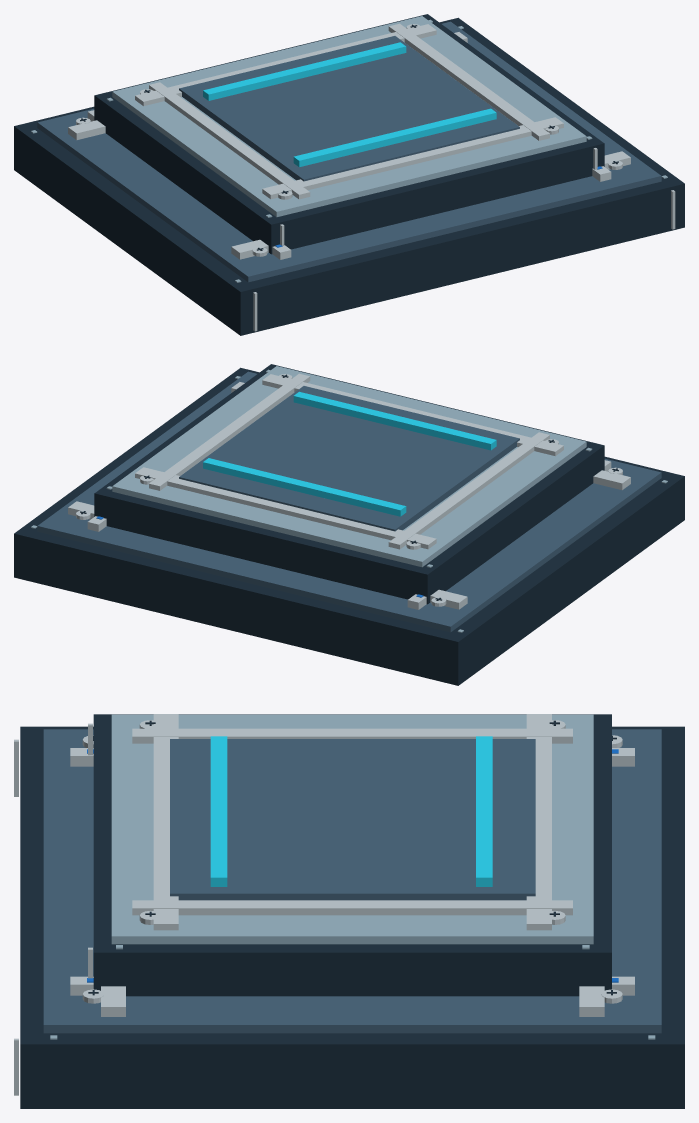
File: 25_L74_NanometreWaferXYStage.fbx
3 views of the same model, one above another, from view 1: azimuth 30°, elevation 25°; view 2: azimuth 150°, elevation 25°; view 3: azimuth 270°, elevation 25° (orthographic). The views are drawn at different scales.
Parts seen in each view (by area): view 1: NanometreWaferXYStage, NanometreWaferXYStage_Part_0056, NanometreWaferXYStage_Part_0028, NanometreWaferXYStage_Part_0035, NanometreWaferXYStage_Part_0038, NanometreWaferXYStage_Part_0057, NanometreWaferXYStage_Part_0058, NanometreWaferXYStage_Part_0042, NanometreWaferXYStage_Part_0040, NanometreWaferXYStage_Part_0036; view 2: NanometreWaferXYStage, NanometreWaferXYStage_Part_0056, NanometreWaferXYStage_Part_0028, NanometreWaferXYStage_Part_0035, NanometreWaferXYStage_Part_0036, NanometreWaferXYStage_Part_0058, NanometreWaferXYStage_Part_0057, NanometreWaferXYStage_Part_0042, NanometreWaferXYStage_Part_0040, NanometreWaferXYStage_Part_0038; view 3: NanometreWaferXYStage, NanometreWaferXYStage_Part_0056, NanometreWaferXYStage_Part_0028, NanometreWaferXYStage_Part_0035, NanometreWaferXYStage_Part_0042, NanometreWaferXYStage_Part_0040, NanometreWaferXYStage_Part_0036, NanometreWaferXYStage_Part_0038, NanometreWaferXYStage_Part_0058, NanometreWaferXYStage_Part_0057.
Part boxes in pixels (x1,y1,x2,y2): NanometreWaferXYStage: (14,17,684,335); NanometreWaferXYStage_Part_0056: (179,36,519,181); NanometreWaferXYStage_Part_0028: (94,14,604,254); NanometreWaferXYStage_Part_0035: (112,16,586,217); NanometreWaferXYStage_Part_0038: (262,117,563,199); NanometreWaferXYStage_Part_0057: (203,42,406,100); NanometreWaferXYStage_Part_0058: (293,108,496,167); NanometreWaferXYStage_Part_0042: (388,23,549,140); NanometreWaferXYStage_Part_0040: (149,82,310,199); NanometreWaferXYStage_Part_0036: (135,24,436,106); NanometreWaferXYStage: (14,367,684,685); NanometreWaferXYStage_Part_0056: (179,386,519,531); NanometreWaferXYStage_Part_0028: (94,364,604,604); NanometreWaferXYStage_Part_0035: (112,366,586,567); NanometreWaferXYStage_Part_0036: (135,467,436,549); NanometreWaferXYStage_Part_0058: (293,391,496,450); NanometreWaferXYStage_Part_0057: (203,458,406,516); NanometreWaferXYStage_Part_0042: (149,373,310,490); NanometreWaferXYStage_Part_0040: (388,432,549,549); NanometreWaferXYStage_Part_0038: (262,374,563,456); NanometreWaferXYStage: (14,726,684,1108); NanometreWaferXYStage_Part_0056: (170,739,535,900); NanometreWaferXYStage_Part_0028: (93,714,611,996); NanometreWaferXYStage_Part_0035: (111,714,593,944); NanometreWaferXYStage_Part_0042: (132,900,572,915); NanometreWaferXYStage_Part_0040: (132,728,572,743); NanometreWaferXYStage_Part_0036: (526,714,551,930); NanometreWaferXYStage_Part_0038: (153,714,178,930); NanometreWaferXYStage_Part_0058: (210,736,227,886); NanometreWaferXYStage_Part_0057: (476,736,492,886).
Size of the model in its own units: 360 by 75.5 by 321.
